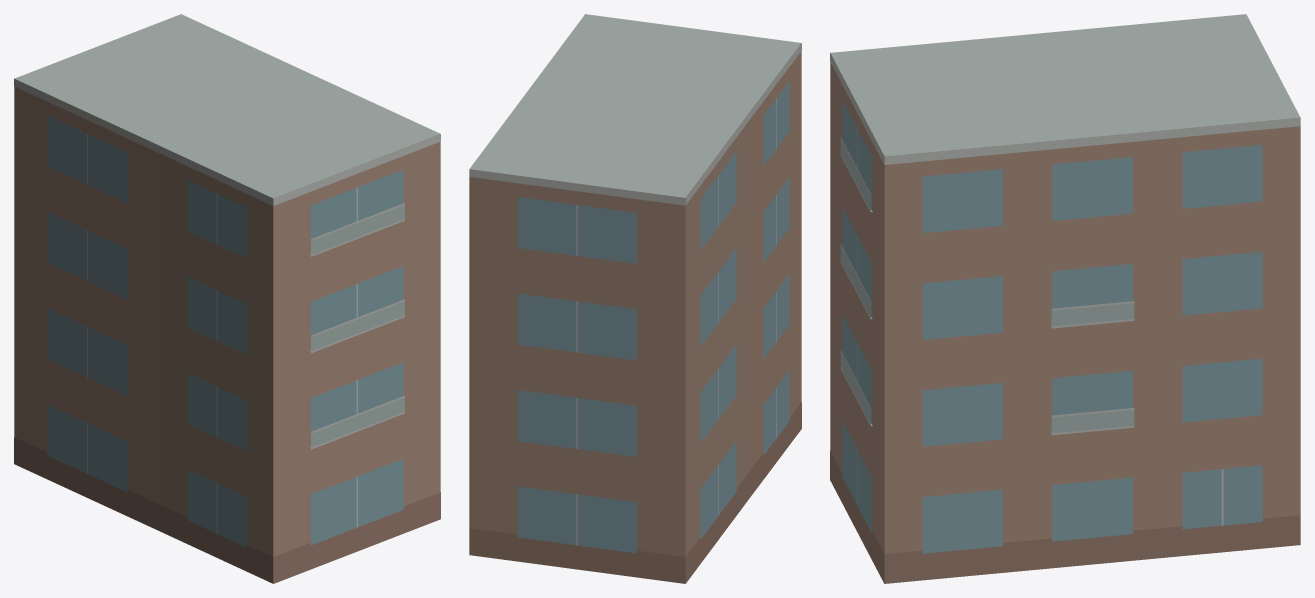
Rendered from residential-cacfa452-9a0e-4562-b525-e9548f967285.glb.
The picture shows the model from 3 angles, left to right: view 1: azimuth 30°, elevation 25°; view 2: azimuth 150°, elevation 25°; view 3: azimuth 270°, elevation 25°; orthographic projection. The views are drawn at different scales.
Parts seen in each view (by area): view 1: residential-cacfa452-9a0e-4562-b525-e9548f967285.tmp; view 2: residential-cacfa452-9a0e-4562-b525-e9548f967285.tmp; view 3: residential-cacfa452-9a0e-4562-b525-e9548f967285.tmp.
Boxes of the visible parts, <box> form: residential-cacfa452-9a0e-4562-b525-e9548f967285.tmp: <box>14,14,440,583</box>; residential-cacfa452-9a0e-4562-b525-e9548f967285.tmp: <box>469,14,801,583</box>; residential-cacfa452-9a0e-4562-b525-e9548f967285.tmp: <box>830,14,1300,583</box>.
Bounding box in the file's own units: 8.73 × 12.2 × 12.18.
